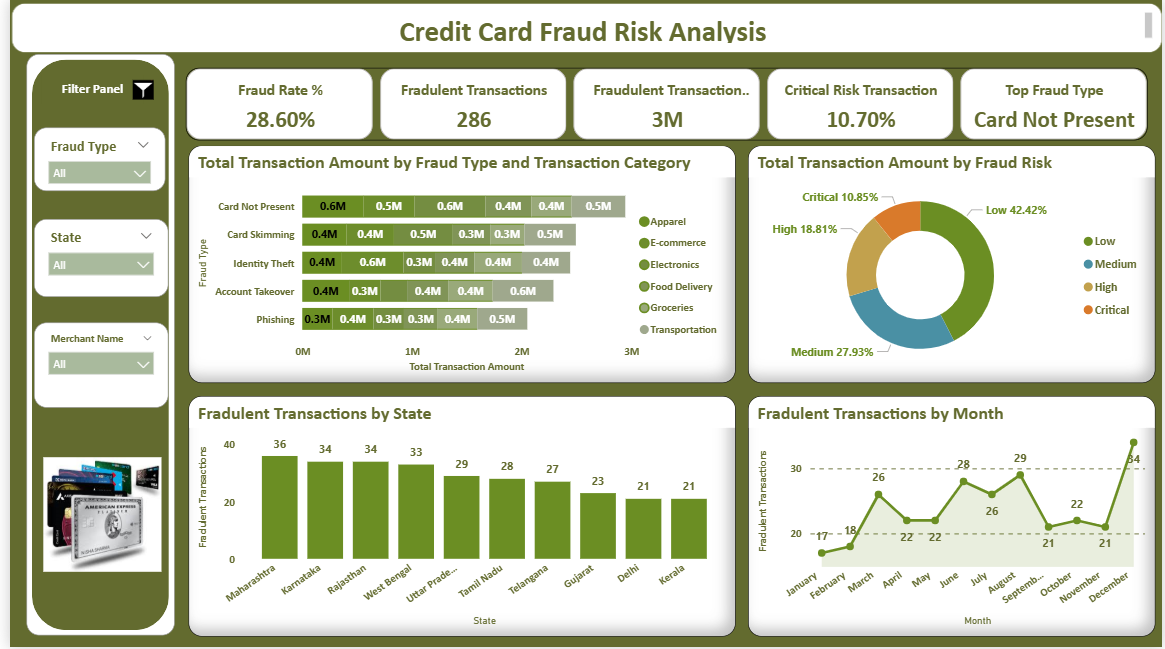

Layout of this report page (visuals, bound fields, positions):
{"tool":"powerbi","page":{"name":"Page 1","canvas":[1280,720],"ordinal":0},"visuals":[{"type":"textbox","box":[1.3,3.3,1278.7,55],"z":0},{"type":"shape","box":[18.9,60.5,164.4,646.3],"z":1000},{"type":"textbox","box":[35.6,83.1,113.6,32.2],"z":2000},{"type":"image","box":[124.7,83.2,45.4,32.1],"z":3000},{"type":"barChart","title":"Fraud Type & Merchant Segmentation","fields":{"Series":["Credit Card Fraud Risk Analysis.Transaction Category"],"Category":["Credit Card Fraud Risk Analysis.Fraud Type"],"Y":["Credit Card Fraud Risk Analysis.Total Transaction Amount"]},"box":[198.4,162.3,608.2,263.9],"z":4000},{"type":"donutChart","title":"Risk Tier Distribution","fields":{"Y":["Credit Card Fraud Risk Analysis.Total Transaction Amount"],"Category":["Credit Card Fraud Risk Analysis.Fraud Risk"]},"box":[819.7,162.3,452.5,263.9],"z":5000},{"type":"columnChart","title":"Geographic Risk Mapping","fields":{"Category":["Credit Card Fraud Risk Analysis.State"],"Y":["Credit Card Fraud Risk Analysis.Fradulent Transactions"]},"box":[198.4,439.3,608.2,267.2],"z":6000},{"type":"lineChart","title":"Temporal Trend Analysis","fields":{"Y":["Credit Card Fraud Risk Analysis.Fradulent Transactions"],"Category":["Credit Card Fraud Risk Analysis.Transaction Date.Variation.Date Hierarchy.Month"]},"box":[819.7,439.3,452.5,267.2],"z":7000},{"type":"slicer","fields":{"Values":["Credit Card Fraud Risk Analysis.Fraud Type"]},"box":[26.2,141,145.9,70.5],"z":8000},{"type":"slicer","fields":{"Values":["Credit Card Fraud Risk Analysis.State"]},"box":[26.5,243.6,149.3,86.9],"z":9000},{"type":"slicer","fields":{"Values":["Credit Card Fraud Risk Analysis.Merchant Name"]},"box":[26.5,358.9,149.3,94.5],"z":10000},{"type":"image","box":[32.1,500.8,141.7,143.6],"z":11000},{"type":"cardVisual","fields":{"Data":["Credit Card Fraud Risk Analysis.Fraud Rate %","Credit Card Fraud Risk Analysis.Fradulent Transactions","Credit Card Fraud Risk Analysis.Fraudulent Transaction Amount","Credit Card Fraud Risk Analysis.Critical Risk Transaction","Credit Card Fraud Risk Analysis.Top Fraud Type"]},"box":[190.2,70.5,1082,91.8],"z":12000}]}

Visuals, with their boxes in screenshot pixels (x1, y1, x2, y2), scaled from the page's 1280x720 canvas onto the 1165x649 screenshot:
textbox: detection(1, 3, 1164, 53)
shape: detection(17, 55, 167, 637)
textbox: detection(32, 75, 136, 104)
image: detection(113, 75, 155, 104)
"Fraud Type & Merchant Segmentation" barChart: detection(181, 146, 734, 384)
"Risk Tier Distribution" donutChart: detection(746, 146, 1158, 384)
"Geographic Risk Mapping" columnChart: detection(181, 396, 734, 637)
"Temporal Trend Analysis" lineChart: detection(746, 396, 1158, 637)
slicer - Credit Card Fraud Risk Analysis.Fraud Type: detection(24, 127, 157, 191)
slicer - Credit Card Fraud Risk Analysis.State: detection(24, 220, 160, 298)
slicer - Credit Card Fraud Risk Analysis.Merchant Name: detection(24, 324, 160, 409)
image: detection(29, 451, 158, 581)
cardVisual - Credit Card Fraud Risk Analysis.Fraud Rate % x Credit Card Fraud Risk Analysis.Fradulent Transactions: detection(173, 64, 1158, 146)
